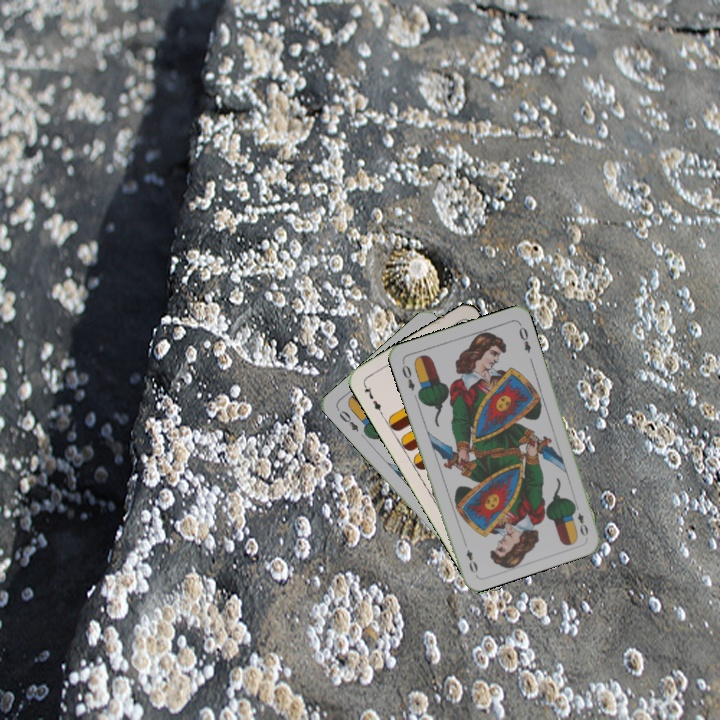E7: (359, 380, 385, 417)
EO: (570, 500, 591, 539), (335, 406, 361, 434), (398, 358, 417, 393)
